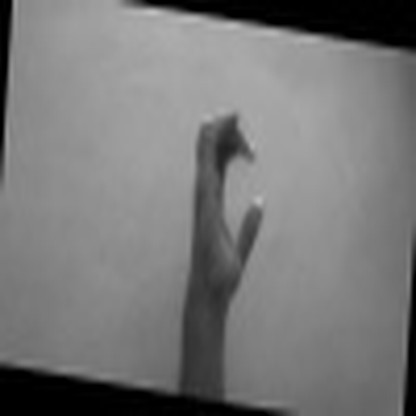c: (182, 103, 268, 306)
